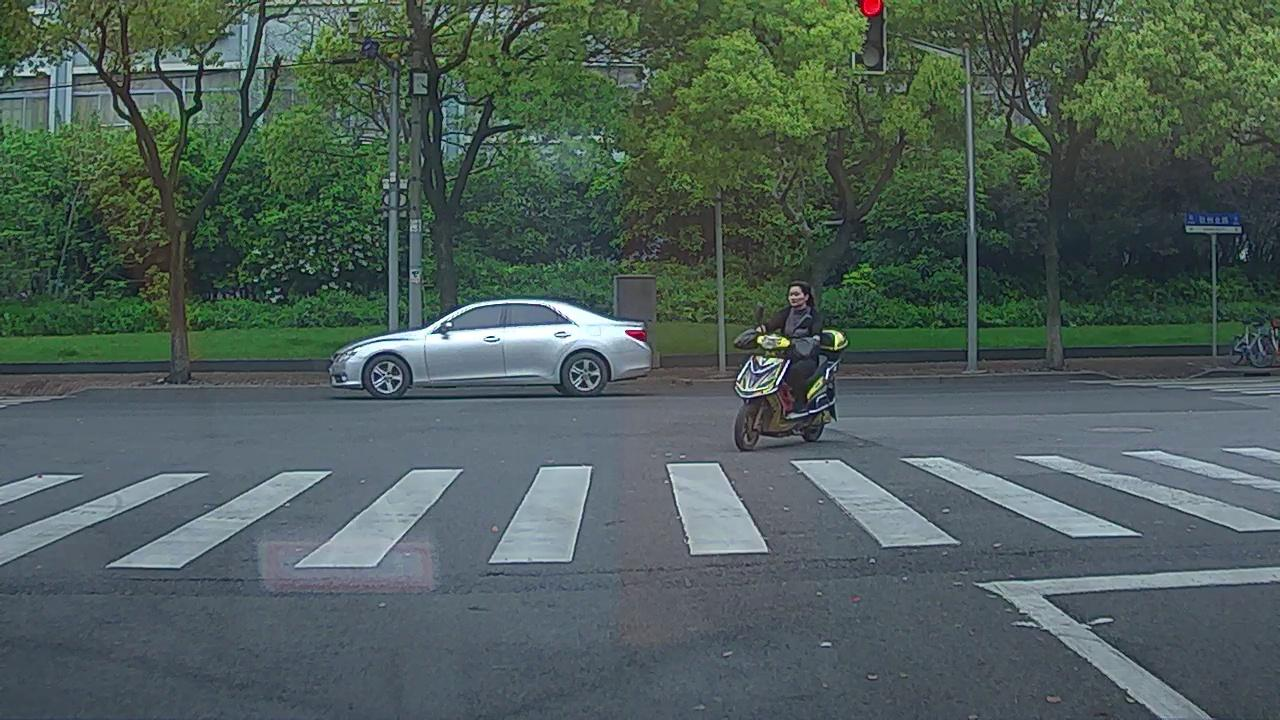traffic_light: (855, 1, 884, 72)
